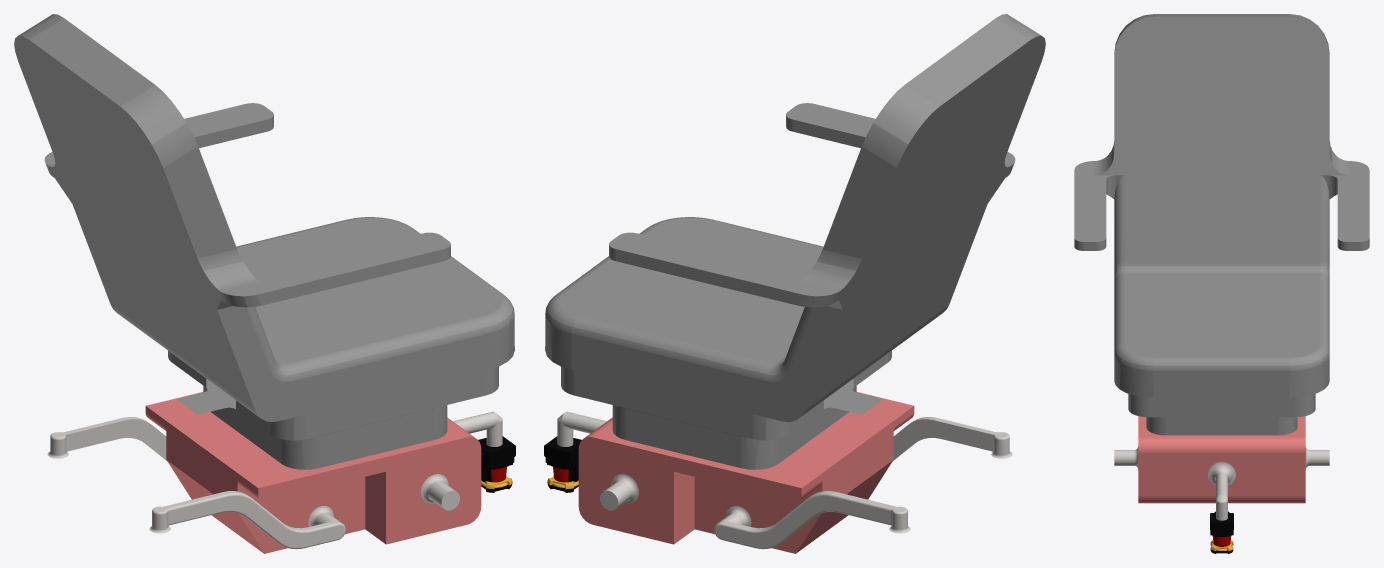
Rendered from wheelchair_base_seat.dae.
3 views of the same model, side by side, from view 1: azimuth 30°, elevation 25°; view 2: azimuth 150°, elevation 25°; view 3: azimuth 270°, elevation 25° (orthographic). The views are drawn at different scales.
Visible parts, largest first — view 1: _3DGeom_198, _3DGeom_103, _3DGeom_68, _3DGeom_34, _3DGeom_105, _3DGeom_621; view 2: _3DGeom_198, _3DGeom_103, _3DGeom_34, _3DGeom_68, _3DGeom_105, _3DGeom_621; view 3: _3DGeom_198, _3DGeom_103, _3DGeom_105, _3DGeom_621.
Boxes of the visible parts, x1,y1,x2,y2 form: _3DGeom_198: (14,14,514,469); _3DGeom_103: (145,392,481,553); _3DGeom_68: (149,491,345,549); _3DGeom_34: (47,417,166,460); _3DGeom_105: (308,411,502,526); _3DGeom_621: (478,436,515,492); _3DGeom_198: (545,14,1045,469); _3DGeom_103: (578,392,914,553); _3DGeom_34: (714,491,910,549); _3DGeom_68: (893,417,1012,460); _3DGeom_105: (557,411,751,526); _3DGeom_621: (544,436,581,492); _3DGeom_198: (1074,14,1369,435); _3DGeom_103: (1138,416,1305,503); _3DGeom_105: (1114,446,1329,520); _3DGeom_621: (1210,511,1233,553).
Size of the model in its own units: 0.9336 by 0.74 by 1.09.
